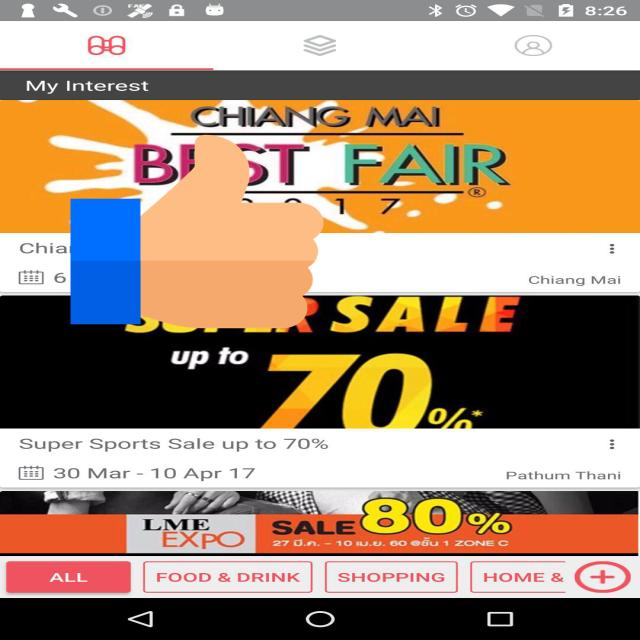privacy zuckering: (70, 130, 324, 333)
